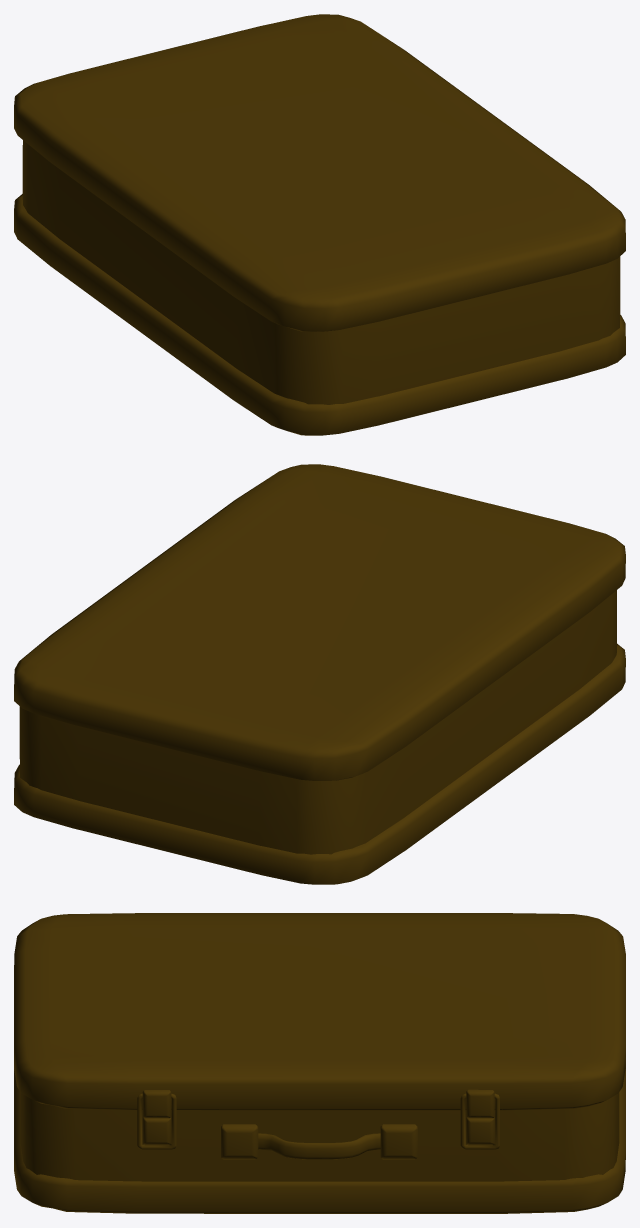
File: SM_Suitcase1.fbx
3 views of the same model, one above another, from view 1: azimuth 30°, elevation 25°; view 2: azimuth 150°, elevation 25°; view 3: azimuth 270°, elevation 25° (orthographic).
Visible parts, largest first — view 1: GEO_Suitcase1; view 2: GEO_Suitcase1; view 3: GEO_Suitcase1.
Boxes of the visible parts, <box> form: GEO_Suitcase1: <box>14,14,625,435</box>; GEO_Suitcase1: <box>14,464,625,884</box>; GEO_Suitcase1: <box>14,913,625,1213</box>.
Size of the model in its own units: 103 by 37.93 by 146.
